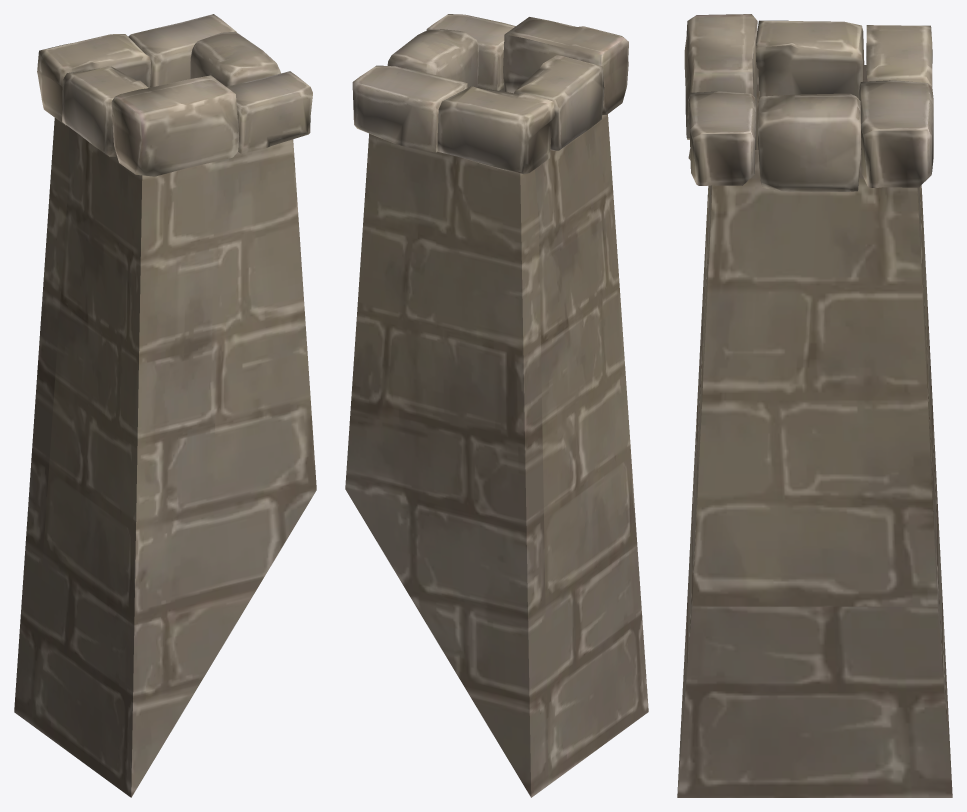
File: Prop_Chimney.glb
3 renders of one model, left to right at view 1: azimuth 30°, elevation 25°; view 2: azimuth 150°, elevation 25°; view 3: azimuth 270°, elevation 25°, orthographic. The views are drawn at different scales.
Visible parts, largest first — view 1: Prop_Chimney; view 2: Prop_Chimney; view 3: Prop_Chimney.
Boxes of the visible parts, left/top/right/bottom form: Prop_Chimney: left=14, top=14, right=316, bottom=797; Prop_Chimney: left=345, top=14, right=648, bottom=797; Prop_Chimney: left=677, top=14, right=952, bottom=797.
Size of the model in its own units: 0.9459 by 3.18 by 1.
2 materials, 2 textured.
